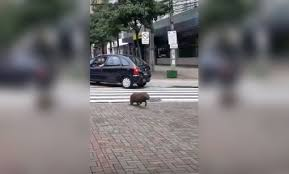capivara: (130, 91, 151, 109)
